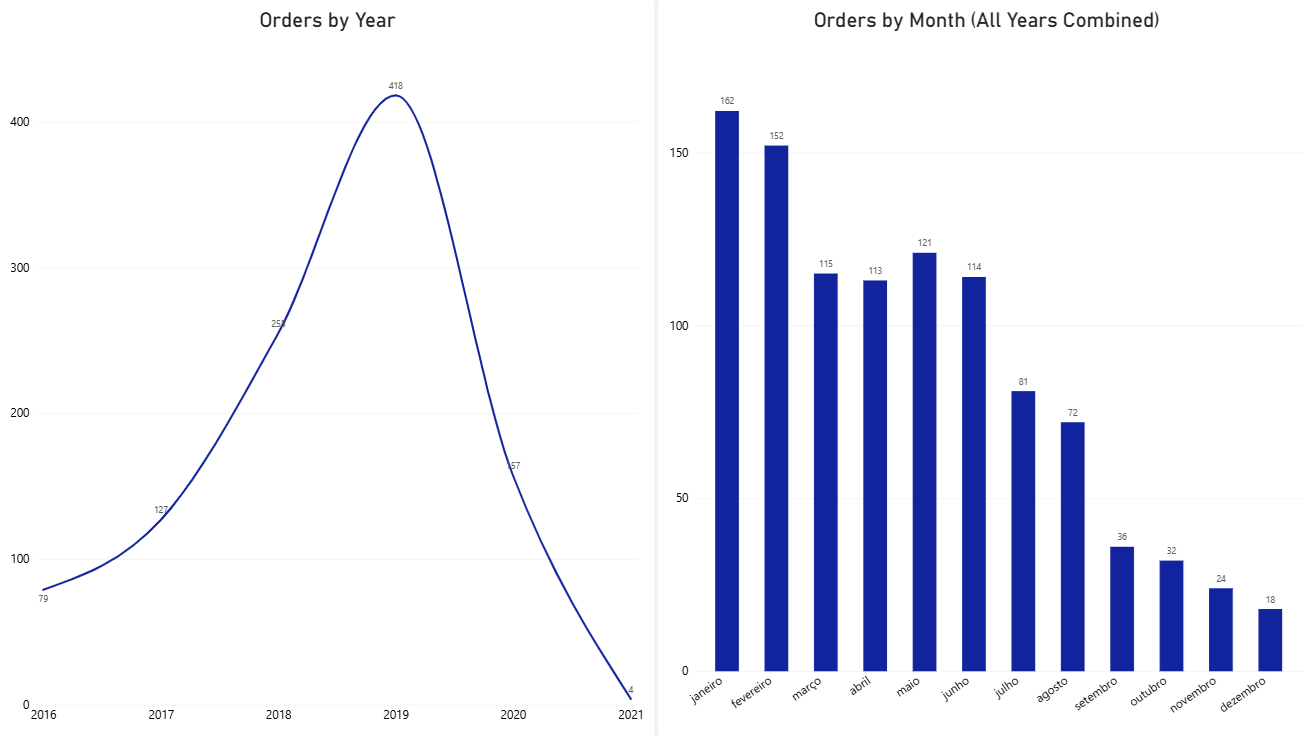

The page's visual inventory and layout, read from the dashboard file:
{"tool":"powerbi","page":{"name":"Order Trends","canvas":[1920,1080],"ordinal":2},"visuals":[{"type":"lineChart","title":"Orders by Year","fields":{"Category":["Sales.Order Date.Variation.Hierarquia de datas.Ano"],"Y":["Count(Sales.Order Number)"]},"box":[0,0,959.2,1080.3],"z":0},{"type":"columnChart","title":"Orders by Month (All Years Combined)","fields":{"Category":["Sales.Order Date.Variation.Hierarquia de datas.Mês"],"Y":["Count(Sales.Order Number)"]},"box":[960.8,0,959.2,1080.3],"z":1000}]}

Visuals, with their boxes in screenshot pixels (x1, y1, x2, y2), scaled from the page's 1920x1080 canvas onto the 1309x736 screenshot:
"Orders by Year" lineChart: detection(0, 0, 654, 735)
"Orders by Month (All Years Combined)" columnChart: detection(655, 0, 1308, 735)
